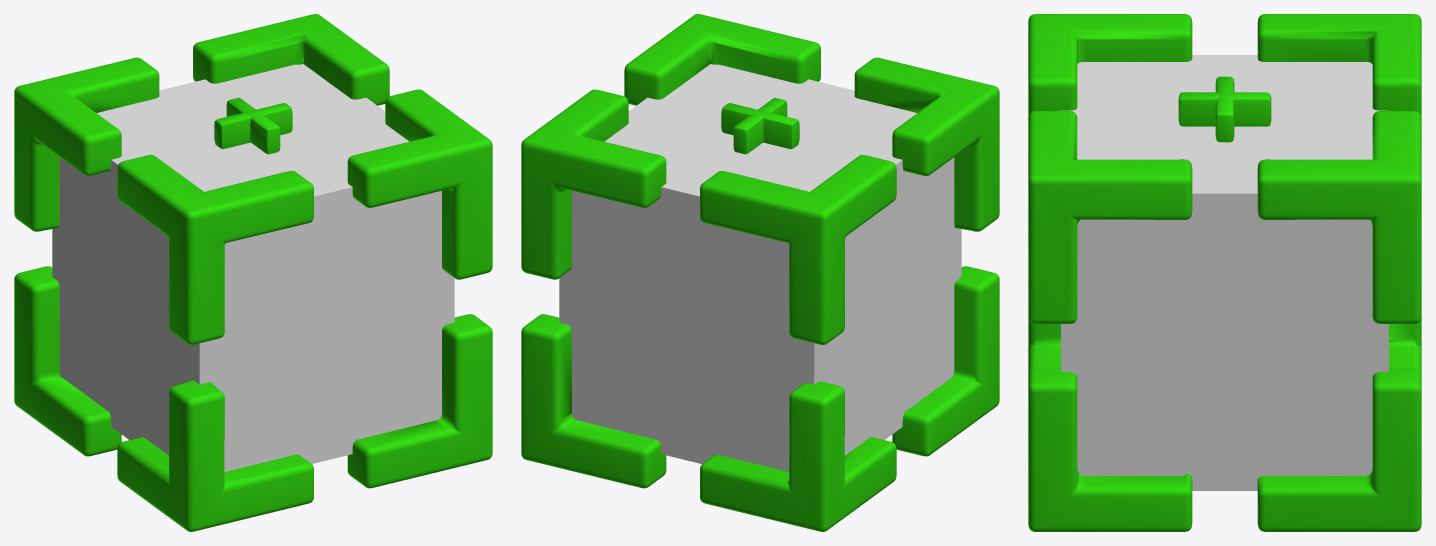
Rendered from HealthBox-min.FBX.
The picture shows the model from 3 angles, left to right: view 1: azimuth 30°, elevation 25°; view 2: azimuth 150°, elevation 25°; view 3: azimuth 270°, elevation 25°; orthographic projection. The views are drawn at different scales.
Visible parts, largest first — view 1: MainBox, Corner005, Corner008, Corner001, Corner011, Corner007, Corner006, Corner010, Corss003; view 2: MainBox, Corner011, Corner006, Corner010, Corner005, Corner002, Corner008, Corner001, Corss003; view 3: MainBox, Corner001, Corner010, Corner007, Corner002, Corner005, Corner011, Corss003, Corner006, Corner008.
Part boxes in pixels (x1=…): MainBox: x1=52, y1=64, x2=454, y2=471; Corner005: x1=117, y1=154, x2=313, y2=344; Corner008: x1=117, y1=380, x2=313, y2=531; Corner001: x1=347, y1=89, x2=492, y2=279; Corner011: x1=14, y1=57, x2=159, y2=231; Corner007: x1=347, y1=314, x2=492, y2=488; Corner006: x1=14, y1=266, x2=121, y2=456; Corner010: x1=193, y1=14, x2=389, y2=105; Corss003: x1=214, y1=97, x2=292, y2=154; MainBox: x1=559, y1=64, x2=961, y2=471; Corner011: x1=700, y1=154, x2=896, y2=344; Corner006: x1=700, y1=381, x2=896, y2=531; Corner010: x1=521, y1=89, x2=666, y2=279; Corner005: x1=854, y1=57, x2=999, y2=231; Corner002: x1=521, y1=314, x2=666, y2=488; Corner008: x1=892, y1=266, x2=999, y2=456; Corner001: x1=624, y1=14, x2=820, y2=105; Corss003: x1=721, y1=97, x2=799, y2=154; MainBox: x1=1061, y1=55, x2=1388, y2=490; Corner001: x1=1028, y1=111, x2=1192, y2=323; Corner010: x1=1257, y1=111, x2=1421, y2=323; Corner007: x1=1028, y1=367, x2=1192, y2=531; Corner002: x1=1257, y1=367, x2=1421, y2=531; Corner005: x1=1028, y1=14, x2=1192, y2=117; Corner011: x1=1257, y1=14, x2=1421, y2=117; Corss003: x1=1178, y1=76, x2=1271, y2=142; Corner006: x1=1389, y1=317, x2=1421, y2=373; Corner008: x1=1028, y1=317, x2=1060, y2=373.
Bounding box in the file's own units: 120 × 120 × 120.
